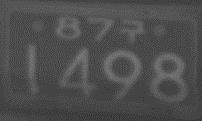1: (18, 43, 49, 94)
4: (58, 46, 97, 97)
7: (85, 15, 114, 44)
8: (149, 51, 190, 105), (56, 14, 83, 40)
9: (103, 48, 143, 101)
구: (119, 17, 144, 45)
